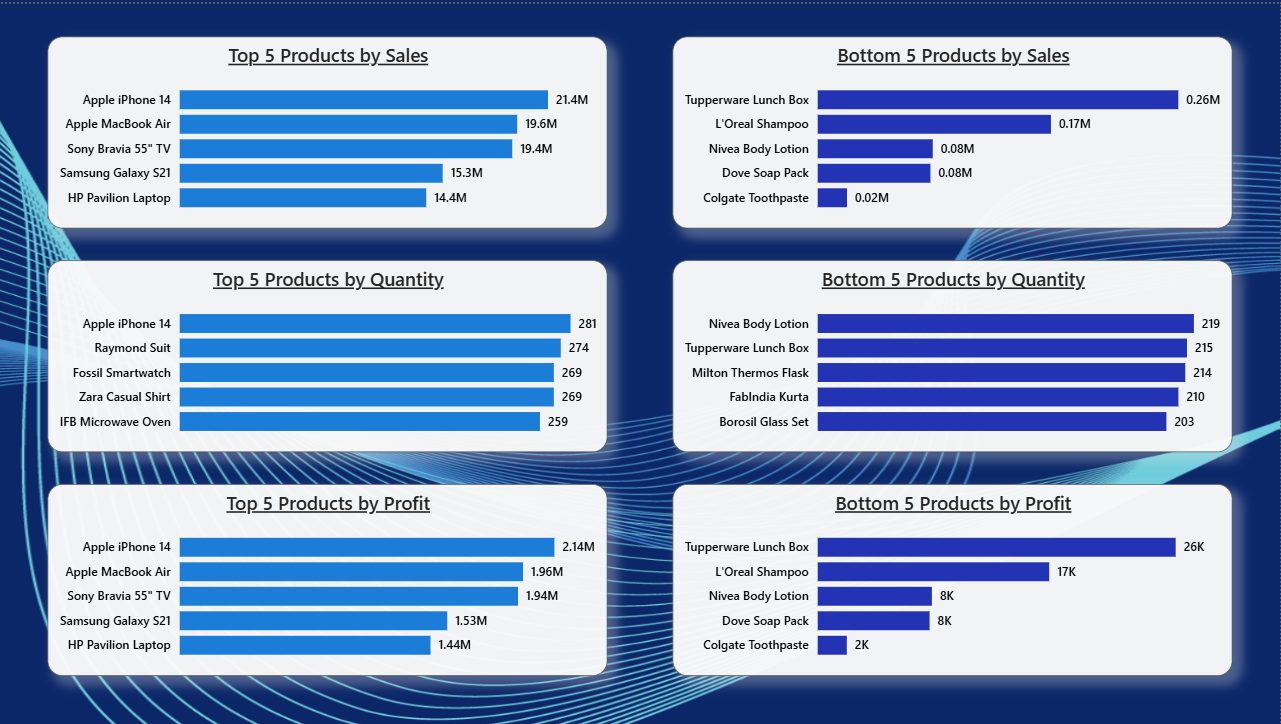

What the dashboard file says about the page in this screenshot:
{"tool":"powerbi","page":{"name":"Top/Bottom 5 Analysis","canvas":[1280,720],"ordinal":1},"visuals":[{"type":"barChart","title":"Bottom 5 Products by Sales","fields":{"Category":["Dim Product.Product Name"],"Y":["Sum(Fact Table.Net Sales )"]},"box":[672,32,560,192],"z":0},{"type":"barChart","title":"Top 5 Products by Sales","fields":{"Category":["Dim Product.Product Name"],"Y":["Sum(Fact Table.Net Sales )"]},"box":[48,32,560,192],"z":1000},{"type":"barChart","title":"Bottom 5 Products by Quantity","fields":{"Category":["Dim Product.Product Name"],"Y":["Sum(Fact Table.Units Sold)"]},"box":[672,256,560,192],"z":2000},{"type":"barChart","title":"Top 5 Products by Quantity","fields":{"Category":["Dim Product.Product Name"],"Y":["Sum(Fact Table.Units Sold)"]},"box":[48,256,560,192],"z":3000},{"type":"barChart","title":"Bottom 5 Products by Profit","fields":{"Category":["Dim Product.Product Name"],"Y":["Sum(Fact Table.Profit)"]},"box":[672,480,560,192],"z":4000},{"type":"barChart","title":"Top 5 Products by Profit","fields":{"Category":["Dim Product.Product Name"],"Y":["Sum(Fact Table.Profit)"]},"box":[48,480,560,192],"z":5000}]}

Visuals, with their boxes in screenshot pixels (x1, y1, x2, y2), scaled from the page's 1280x720 canvas onto the 1281x724 screenshot:
"Bottom 5 Products by Sales" barChart: region(673, 32, 1233, 225)
"Top 5 Products by Sales" barChart: region(48, 32, 608, 225)
"Bottom 5 Products by Quantity" barChart: region(673, 257, 1233, 450)
"Top 5 Products by Quantity" barChart: region(48, 257, 608, 450)
"Bottom 5 Products by Profit" barChart: region(673, 483, 1233, 676)
"Top 5 Products by Profit" barChart: region(48, 483, 608, 676)
